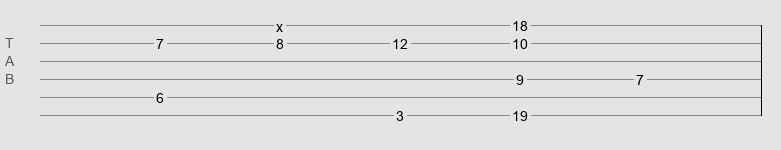10: (512, 36, 528, 46)
12: (392, 36, 408, 46)
18: (512, 18, 528, 28)
19: (512, 108, 528, 118)
3: (396, 108, 404, 118)
6: (156, 90, 164, 100)
7: (156, 36, 164, 46), (636, 72, 644, 82)
8: (276, 36, 284, 46)
9: (516, 72, 524, 82)
x: (276, 19, 283, 27)
